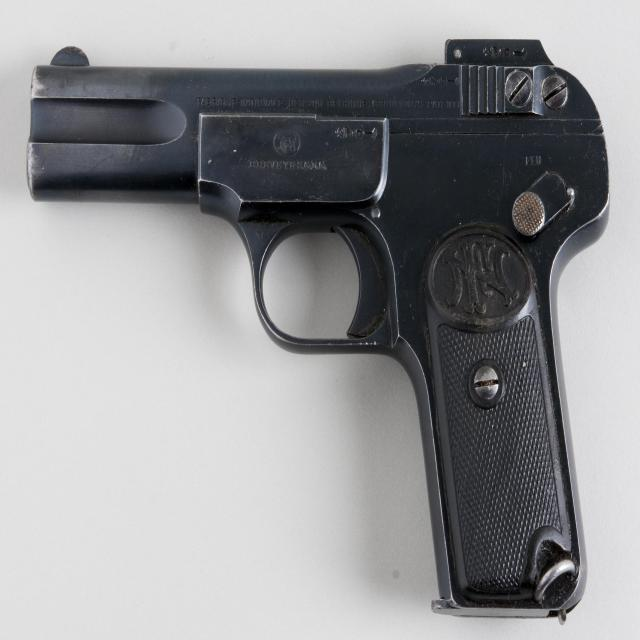pistol: (23, 35, 614, 628)
